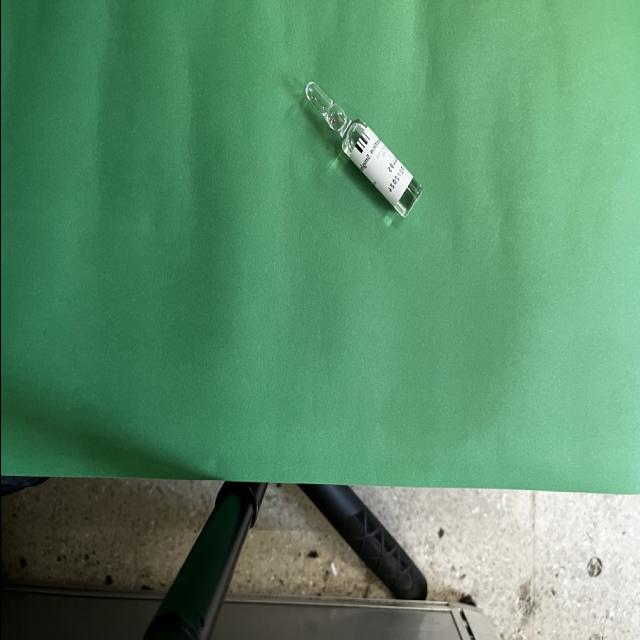Ampoules: (304, 82, 420, 217)
